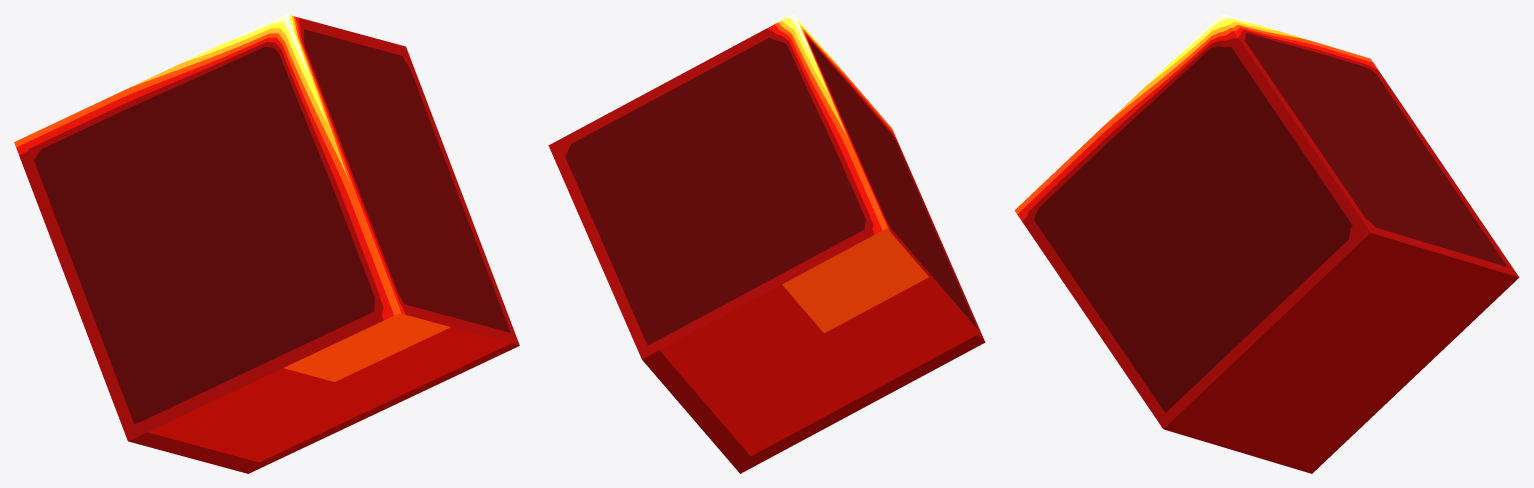
File: molten_crystal_93.glb
3 renders of one model, left to right at view 1: azimuth 30°, elevation 25°; view 2: azimuth 150°, elevation 25°; view 3: azimuth 270°, elevation 25°, orthographic. The views are drawn at different scales.
Visible parts, largest first — view 1: molten_crystal_93; view 2: molten_crystal_93; view 3: molten_crystal_93.
Part boxes in pixels (x1=…): molten_crystal_93: x1=14, y1=14, x2=519, y2=473; molten_crystal_93: x1=548, y1=14, x2=985, y2=473; molten_crystal_93: x1=1014, y1=14, x2=1519, y2=473.
Size of the model in its own units: 19.76 by 24.05 by 24.22.
